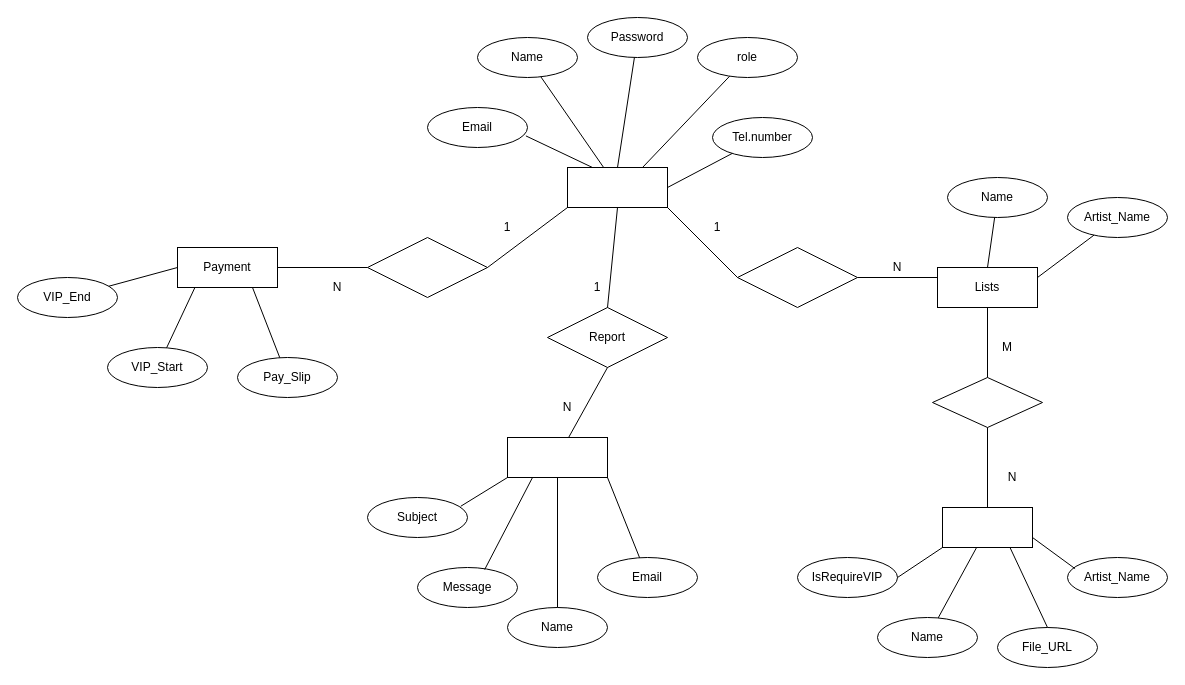
Some shapes in this 1185 by 685 pixel diagram are drawn without their labels. The centre of each missing label's shape, as x and y in pixels:
Get_In_Touch: point 557,457
Has: point 987,402
Song: point 987,527
User: point 617,187
UserPayment: point 427,267
UserPlaylist: point 797,277
